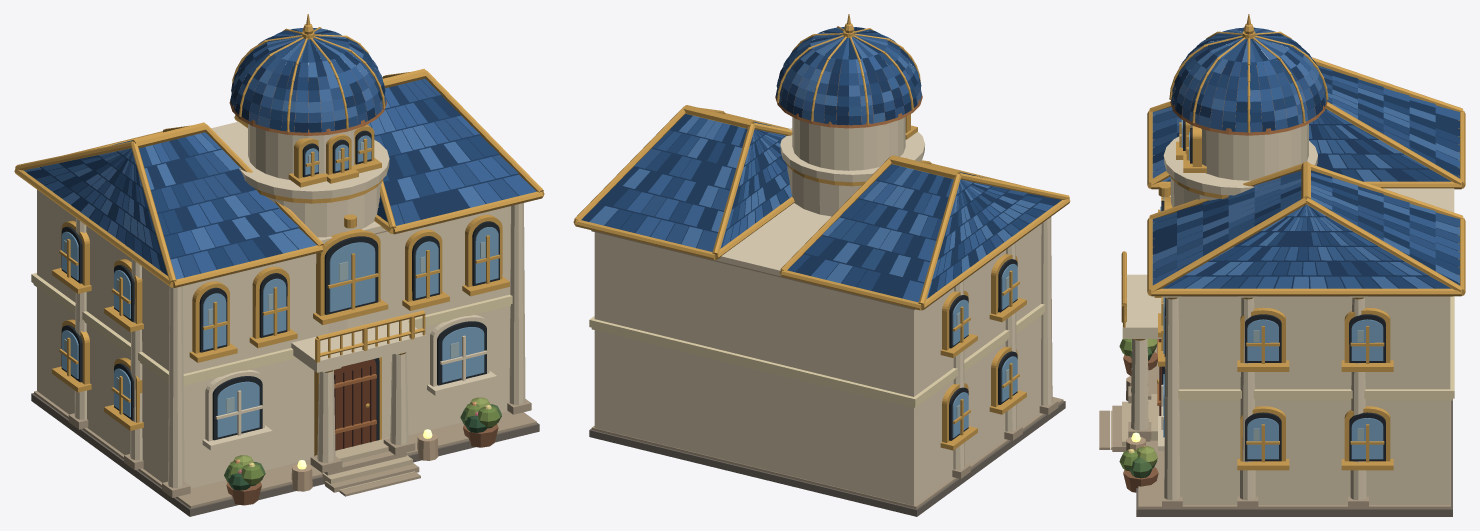
File: moradia-nivel-10.glb
3 renders of one model, left to right at view 1: azimuth 30°, elevation 25°; view 2: azimuth 150°, elevation 25°; view 3: azimuth 270°, elevation 25°, orthographic. The views are drawn at different scales.
Parts seen in each view (by area): view 1: Moradia 10 #e6d7ba, Moradia 10 #d5a452, Moradia 10 #1b385b, Moradia 10 #567185, Moradia 10 #4670a0, Moradia 10 #2e5481, Moradia 10 #355f90, Moradia 10 #234771, Moradia 10 #252c32, Moradia 10 #b4a38a, Moradia 10 #eadbb2, Moradia 10 #746c62 (+8 smaller); view 2: Moradia 10 #e6d7ba, Moradia 10 #d5a452, Moradia 10 #1b385b, Moradia 10 #4670a0, Moradia 10 #355f90, Moradia 10 #234771, Moradia 10 #2e5481, Moradia 10 #eadbb2, Moradia 10 #746c62, Moradia 10 #b4a38a, Moradia 10 #567185, Moradia 10 #252c32 (+1 smaller); view 3: Moradia 10 #e6d7ba, Moradia 10 #d5a452, Moradia 10 #1b385b, Moradia 10 #4670a0, Moradia 10 #234771, Moradia 10 #355f90, Moradia 10 #2e5481, Moradia 10 #567185, Moradia 10 #b4a38a, Moradia 10 #eadbb2, Moradia 10 #746c62, Moradia 10 #252c32 (+5 smaller).
Part boxes in pixels (box(x1,y1,x2,y2)): Moradia 10 #e6d7ba: box(37, 121, 525, 488); Moradia 10 #d5a452: box(14, 14, 544, 456); Moradia 10 #1b385b: box(26, 30, 518, 277); Moradia 10 #567185: box(62, 135, 498, 437); Moradia 10 #4670a0: box(24, 28, 485, 279); Moradia 10 #2e5481: box(35, 28, 518, 277); Moradia 10 #355f90: box(41, 29, 536, 273); Moradia 10 #234771: box(53, 29, 498, 269); Moradia 10 #252c32: box(61, 130, 499, 440); Moradia 10 #b4a38a: box(34, 230, 536, 508); Moradia 10 #eadbb2: box(31, 273, 512, 385); Moradia 10 #746c62: box(31, 393, 539, 516); Moradia 10 #e6d7ba: box(594, 117, 1052, 505); Moradia 10 #d5a452: box(573, 14, 1070, 450); Moradia 10 #1b385b: box(581, 27, 1061, 298); Moradia 10 #4670a0: box(589, 27, 1035, 298); Moradia 10 #355f90: box(627, 31, 1053, 302); Moradia 10 #234771: box(604, 27, 1045, 290); Moradia 10 #2e5481: box(634, 28, 1036, 291); Moradia 10 #eadbb2: box(589, 304, 1045, 407); Moradia 10 #746c62: box(589, 400, 1065, 516); Moradia 10 #b4a38a: box(591, 230, 1063, 508); Moradia 10 #567185: box(952, 264, 1017, 437); Moradia 10 #252c32: box(949, 259, 1017, 440); Moradia 10 #e6d7ba: box(1122, 123, 1454, 504); Moradia 10 #d5a452: box(1121, 14, 1465, 470); Moradia 10 #1b385b: box(1152, 27, 1459, 288); Moradia 10 #4670a0: box(1152, 28, 1459, 288); Moradia 10 #234771: box(1152, 34, 1459, 288); Moradia 10 #355f90: box(1152, 30, 1459, 288); Moradia 10 #2e5481: box(1152, 27, 1459, 288); Moradia 10 #567185: box(1160, 120, 1383, 459); Moradia 10 #b4a38a: box(1099, 296, 1452, 508); Moradia 10 #eadbb2: box(1178, 296, 1454, 400); Moradia 10 #746c62: box(1136, 399, 1452, 516); Moradia 10 #252c32: box(1161, 120, 1385, 461).
Size of the model in its own units: 8.11 by 8.66 by 6.88.
